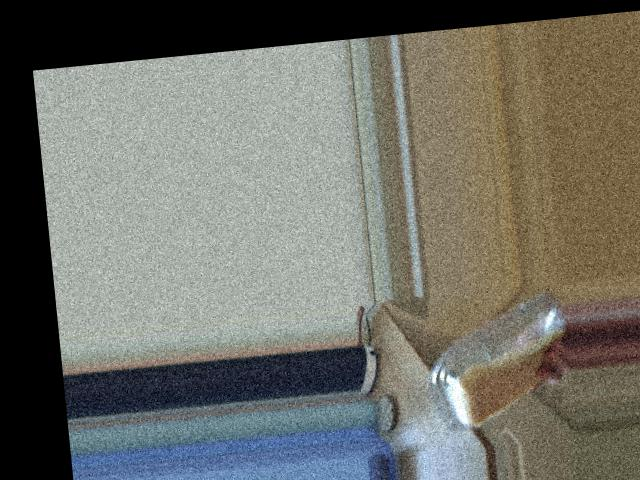cheese: (437, 317, 524, 415)
